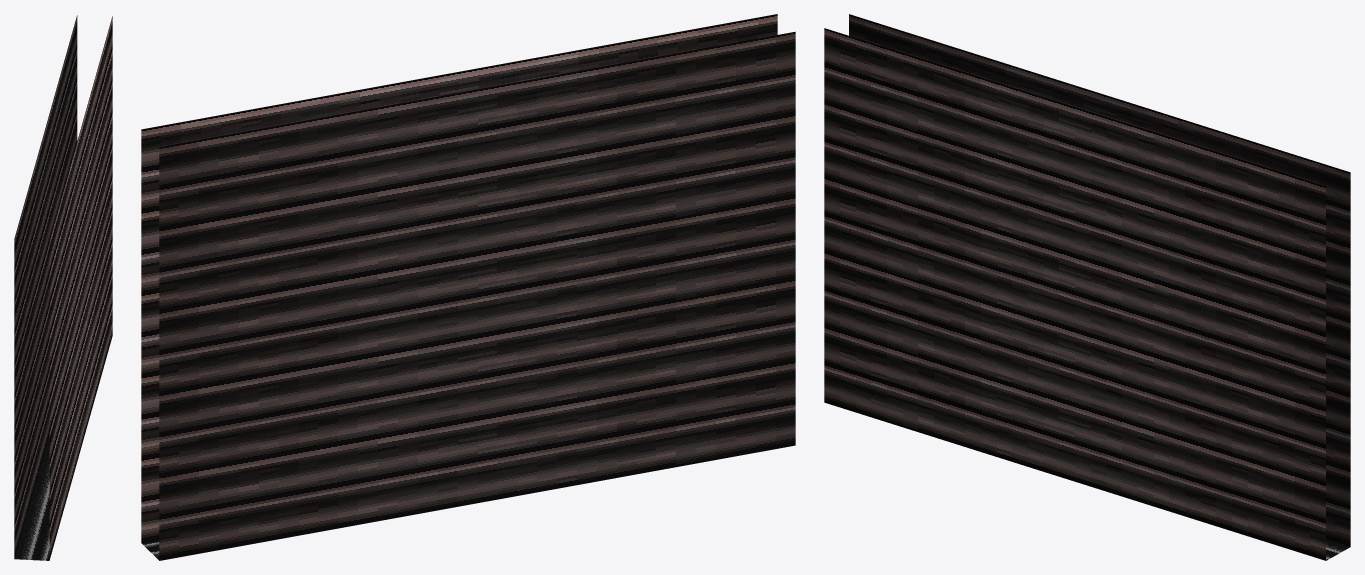
Rendered from dam_wooden_segment_door.glb.
3 views of the same model, side by side, from view 1: azimuth 30°, elevation 25°; view 2: azimuth 150°, elevation 25°; view 3: azimuth 270°, elevation 25° (orthographic). The views are drawn at different scales.
Visible parts, largest first — view 1: Object; view 2: Object; view 3: Object.
Boxes of the visible parts, x1,y1,x2,y2 form: Object: [14, 15, 112, 560]; Object: [141, 14, 795, 560]; Object: [824, 14, 1350, 560].
Bounding box in the file's own units: 2.39 × 2.42 × 3.08.
Materials: 3 (3 with a texture image).
